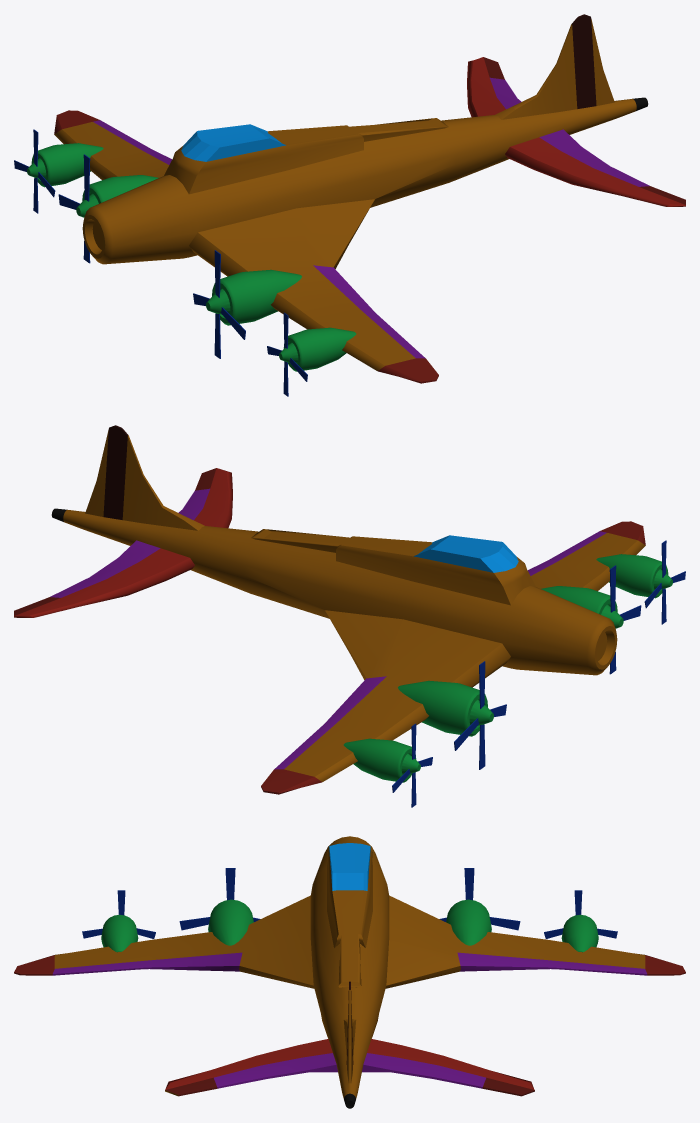
3 renders of one model, top to bottom at view 1: azimuth 30°, elevation 25°; view 2: azimuth 150°, elevation 25°; view 3: azimuth 270°, elevation 25°, orthographic. The views are drawn at different scales.
Parts seen in each view (by area): view 1: pCylinder4 (×7), pCube5, pCube6; view 2: pCylinder4 (×7), pCube5, pCube6; view 3: pCylinder4 (×7), pCube5, pCube6.
Boxes of the visible parts, left/top/right/bottom form: pCylinder4 (×7): left=27, top=14, right=685, bottom=383; pCube5: left=58, top=154, right=245, bottom=358; pCube6: left=14, top=129, right=307, bottom=396; pCylinder4 (×7): left=14, top=425, right=672, bottom=794; pCube5: left=454, top=565, right=641, bottom=769; pCube6: left=392, top=540, right=685, bottom=807; pCylinder4 (×7): left=14, top=836, right=685, bottom=1098; pCube5: left=179, top=868, right=520, bottom=930; pCube6: left=82, top=890, right=617, bottom=938.
Bounding box in the file's own units: 19.91 × 6.53 × 22.99.
